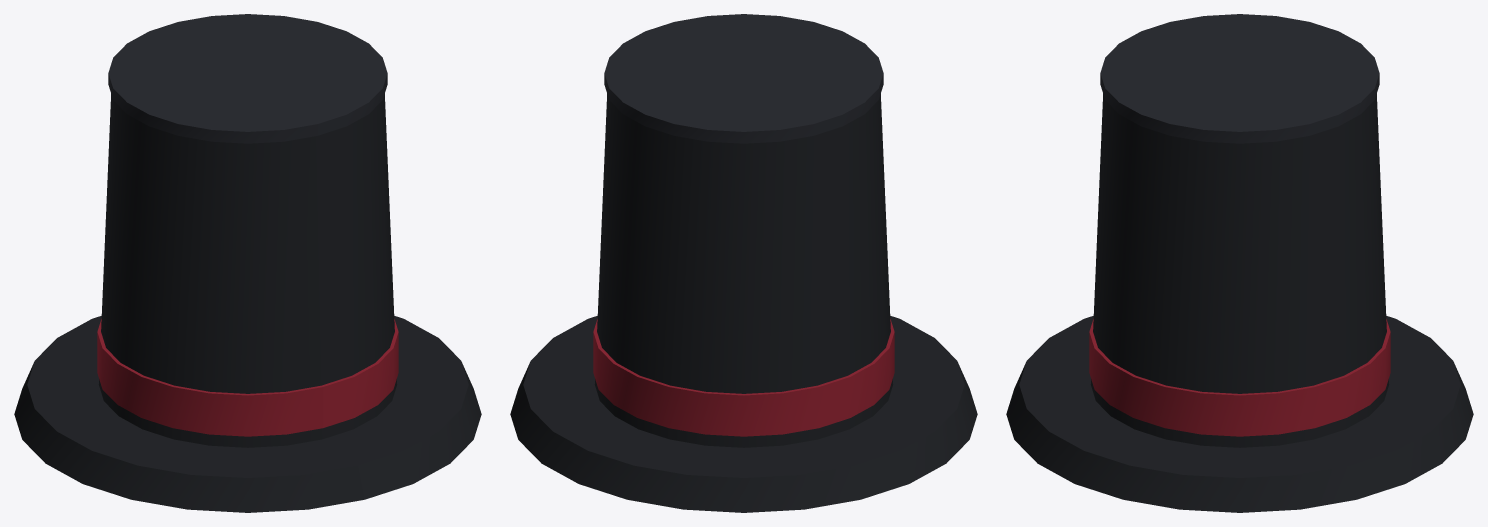
File: head-accessory.glb
The picture shows the model from 3 angles, left to right: view 1: azimuth 30°, elevation 25°; view 2: azimuth 150°, elevation 25°; view 3: azimuth 270°, elevation 25°; orthographic projection.
Parts seen in each view (by area): view 1: tophat; view 2: tophat; view 3: tophat.
Boxes of the visible parts, x1=… form: tophat: x1=14, y1=14, x2=481, y2=512; tophat: x1=510, y1=14, x2=977, y2=512; tophat: x1=1006, y1=14, x2=1473, y2=512.
Bounding box in the file's own units: 0.72 × 0.58 × 0.72.
